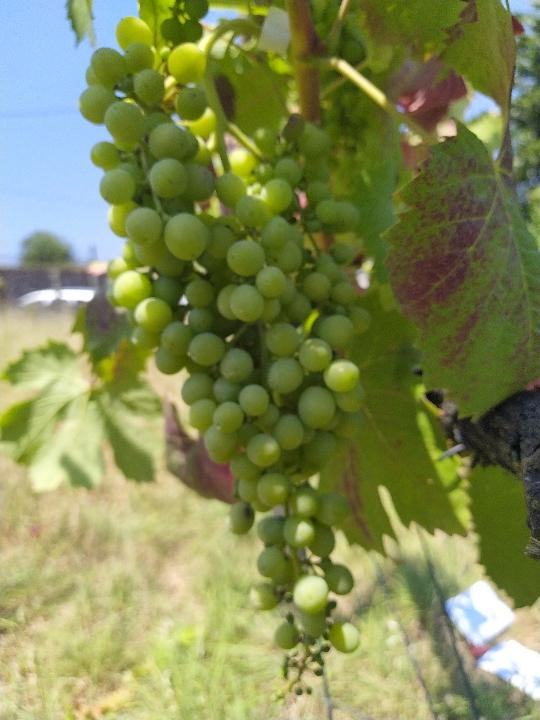grape: (79, 15, 371, 700)
